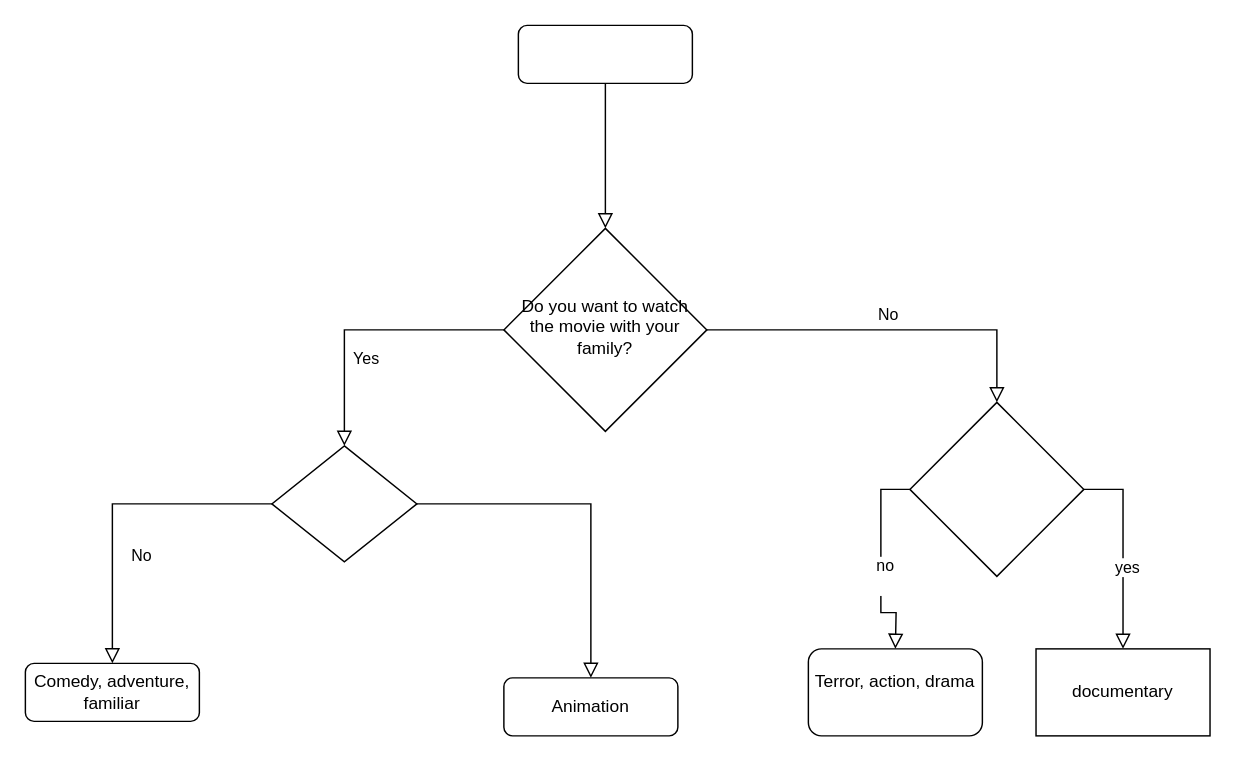
Some shapes in this 1235 by 761 pixel diagram are drawn without their labels. Each missing label, with the centre of its shape:
Do you want to watch a ducumentary: the point at 996,488
Do you want to watch an animated movie?: the point at 343,503
Start: the point at 604,53
